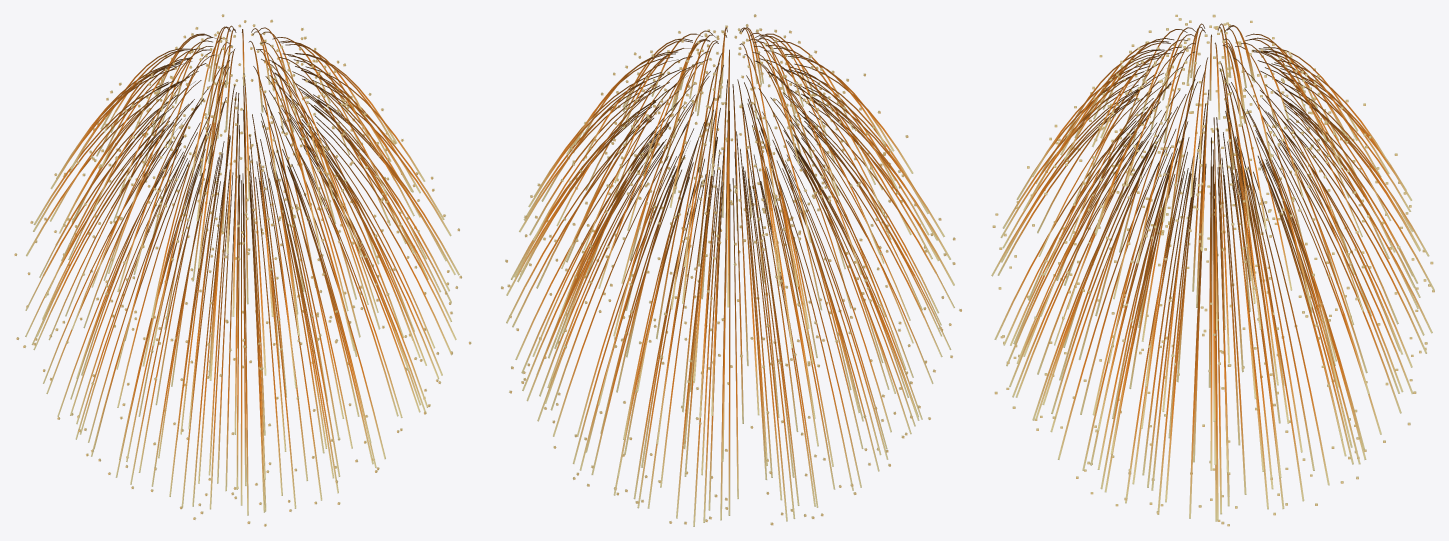
The model's file is fw_willow_gold_c.glb.
3 views of the same model, side by side, from view 1: azimuth 30°, elevation 25°; view 2: azimuth 150°, elevation 25°; view 3: azimuth 270°, elevation 25° (orthographic). The views are drawn at different scales.
Parts seen in each view (by area): view 1: spire; view 2: spire; view 3: spire.
Part boxes in pixels (left/top/right/bottom): spire: left=14, top=14, right=471, bottom=526; spire: left=501, top=14, right=961, bottom=526; spire: left=991, top=14, right=1434, bottom=526.
Size of the model in its own units: 22.37 by 26.13 by 21.95.
2 materials, 2 textured.
